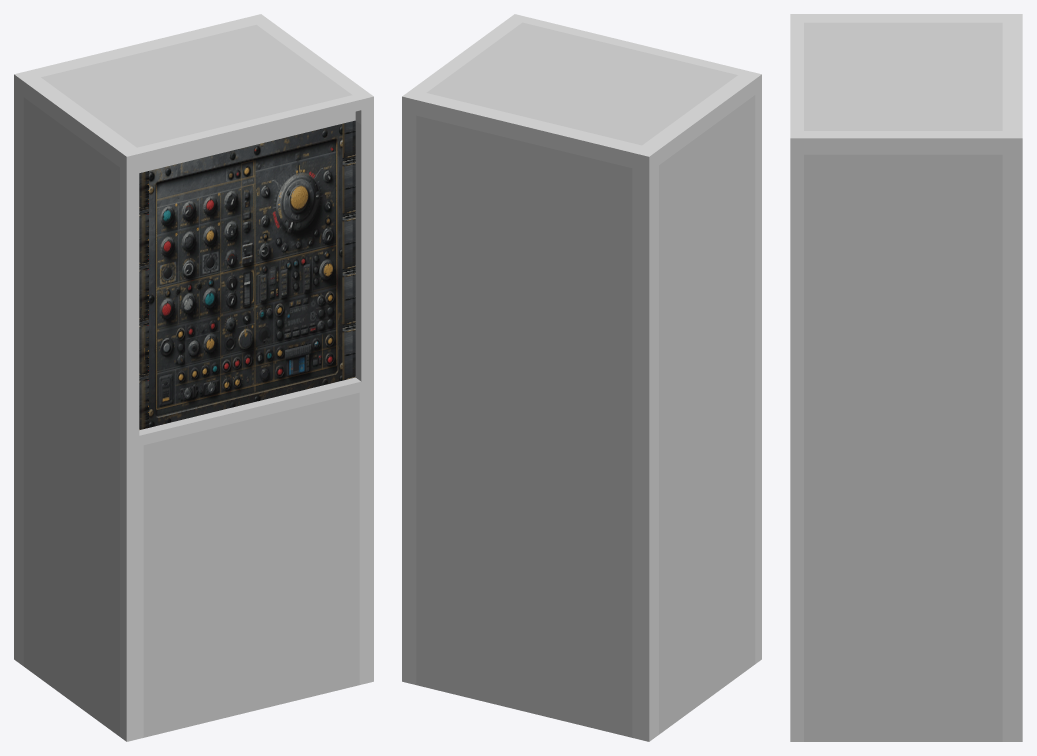
Rendered from ComputerRack05.fbx.
3 renders of one model, left to right at view 1: azimuth 30°, elevation 25°; view 2: azimuth 150°, elevation 25°; view 3: azimuth 270°, elevation 25°, orthographic. The views are drawn at different scales.
Parts seen in each view (by area): view 1: Ballastkontrolle.003; view 2: Ballastkontrolle.003; view 3: Ballastkontrolle.003.
Part boxes in pixels (x1=…): Ballastkontrolle.003: x1=14, y1=14, x2=373, y2=741; Ballastkontrolle.003: x1=402, y1=14, x2=761, y2=741; Ballastkontrolle.003: x1=790, y1=14, x2=1022, y2=741.
Bounding box in the file's own units: 40.72 × 92.12 × 32.18.
